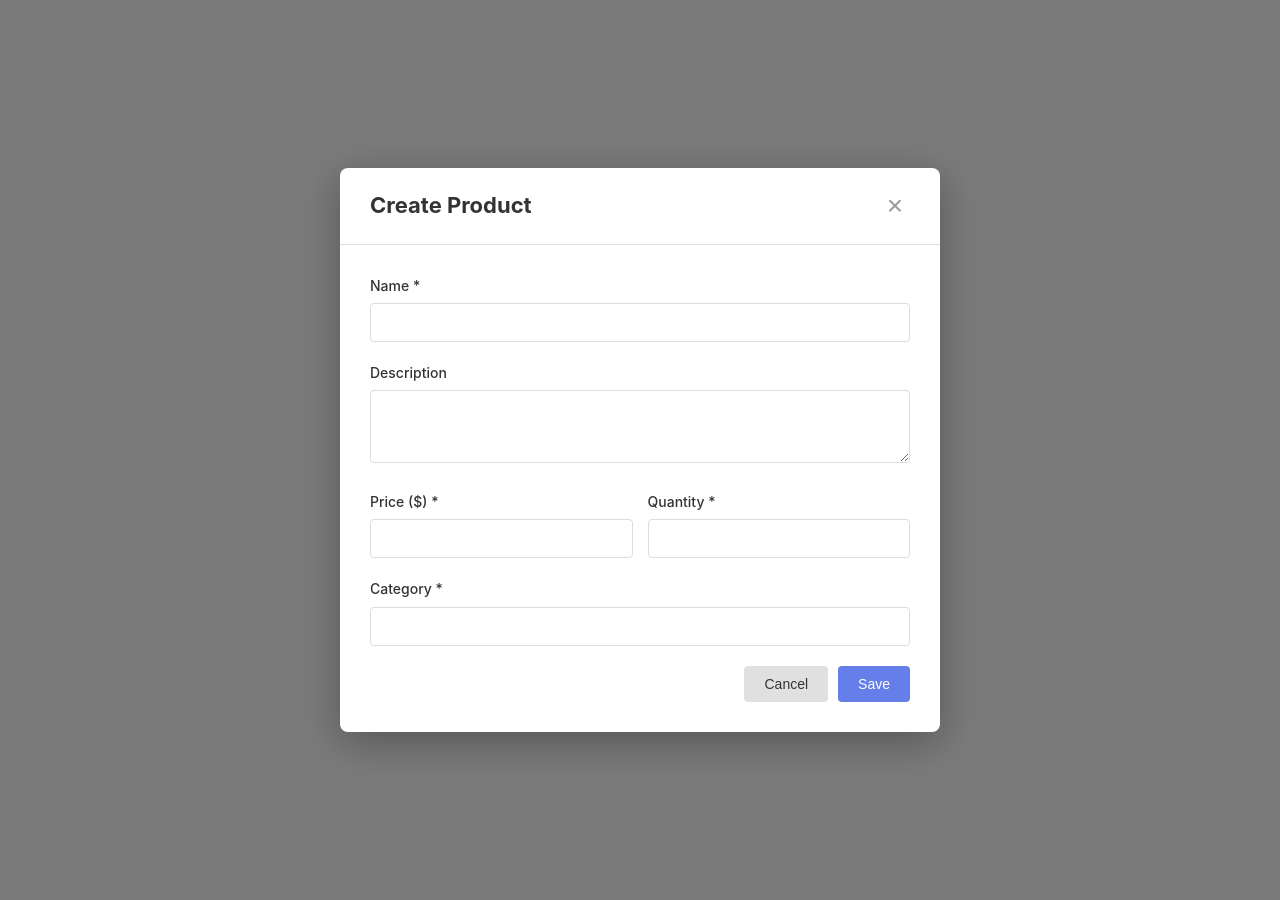
Test: ProductModal › should validate quantity is 0 or greater
The width and height of the screenshot is (1280, 900).
Type "Test Product" into the field labelled "Name *" at (640, 322), box x1=370 y1=303 x2=910 y2=342
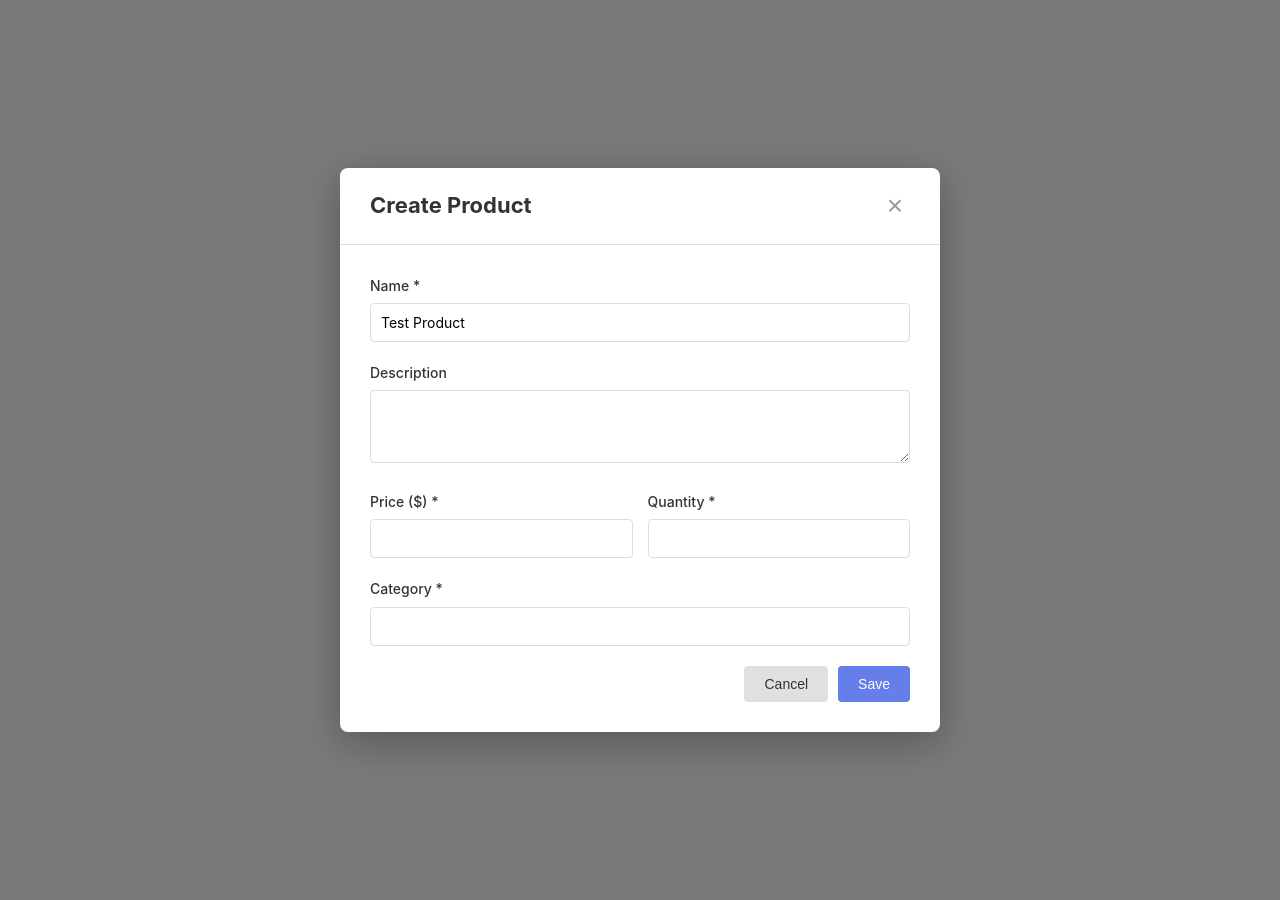
Type "10.99" into the number field labelled "Price ($) *" at (501, 539), box x1=370 y1=519 x2=632 y2=558
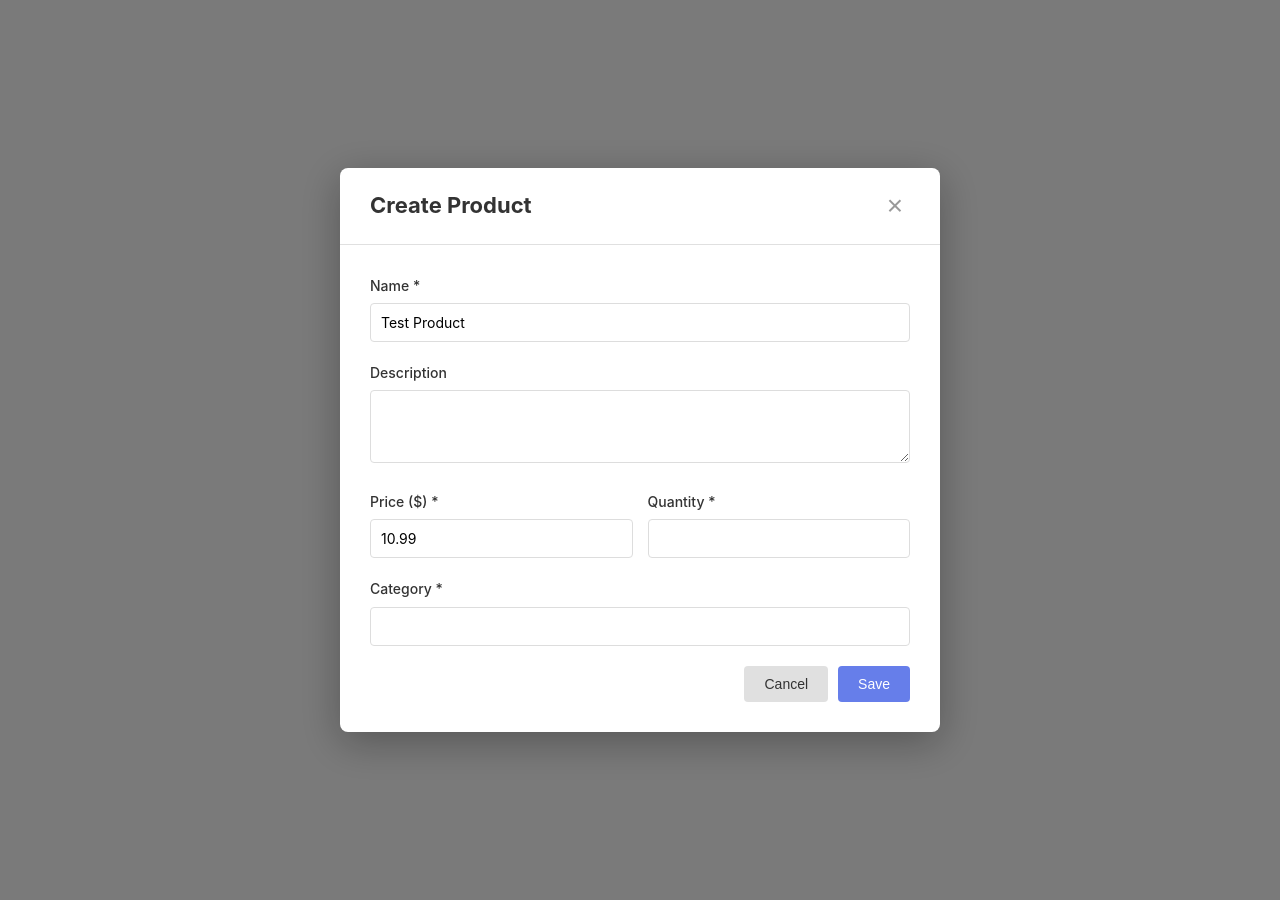
Type "Test" into the field labelled "Category *" at (640, 626), box x1=370 y1=607 x2=910 y2=646
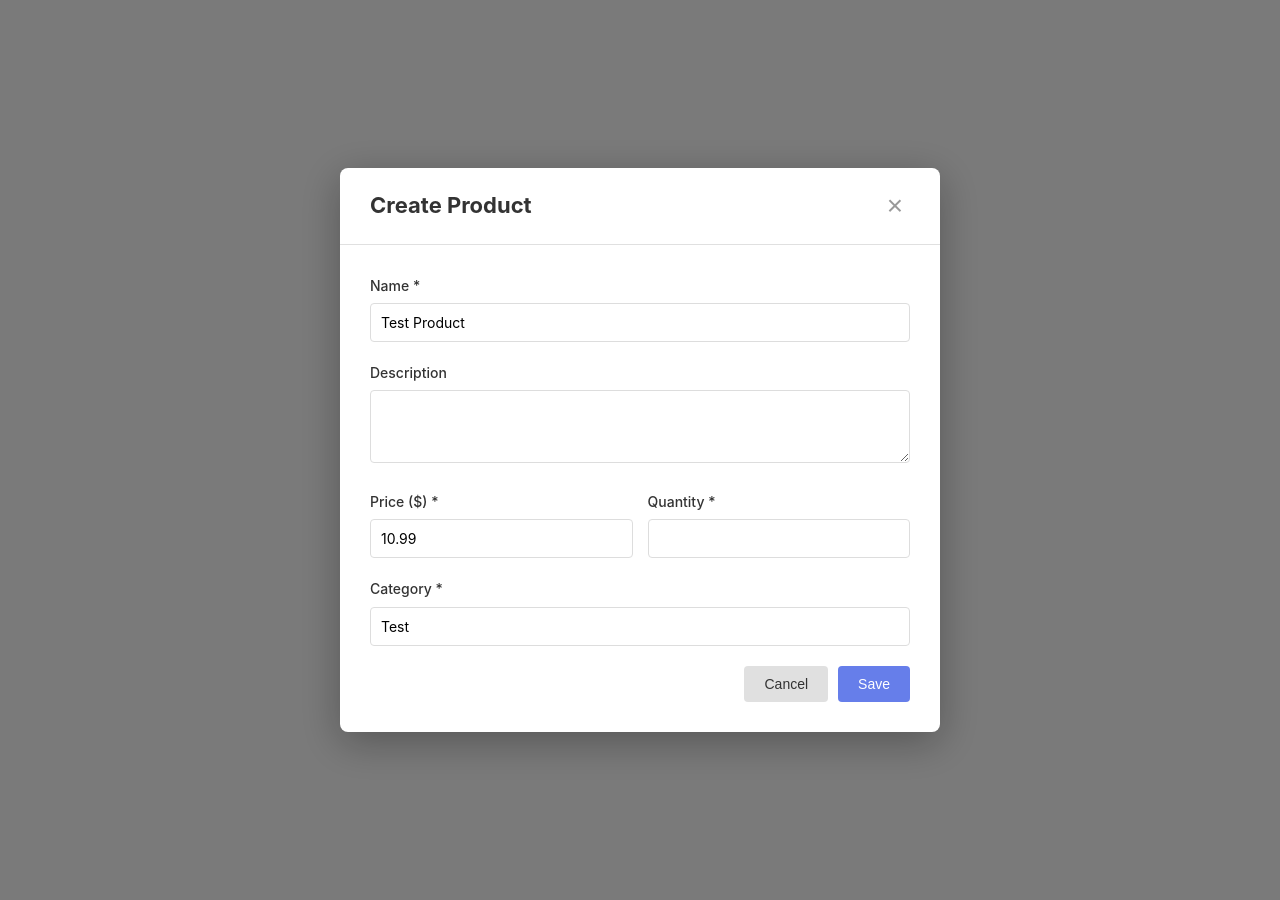
Click the button "Save" at (874, 684), box x1=838 y1=666 x2=910 y2=702
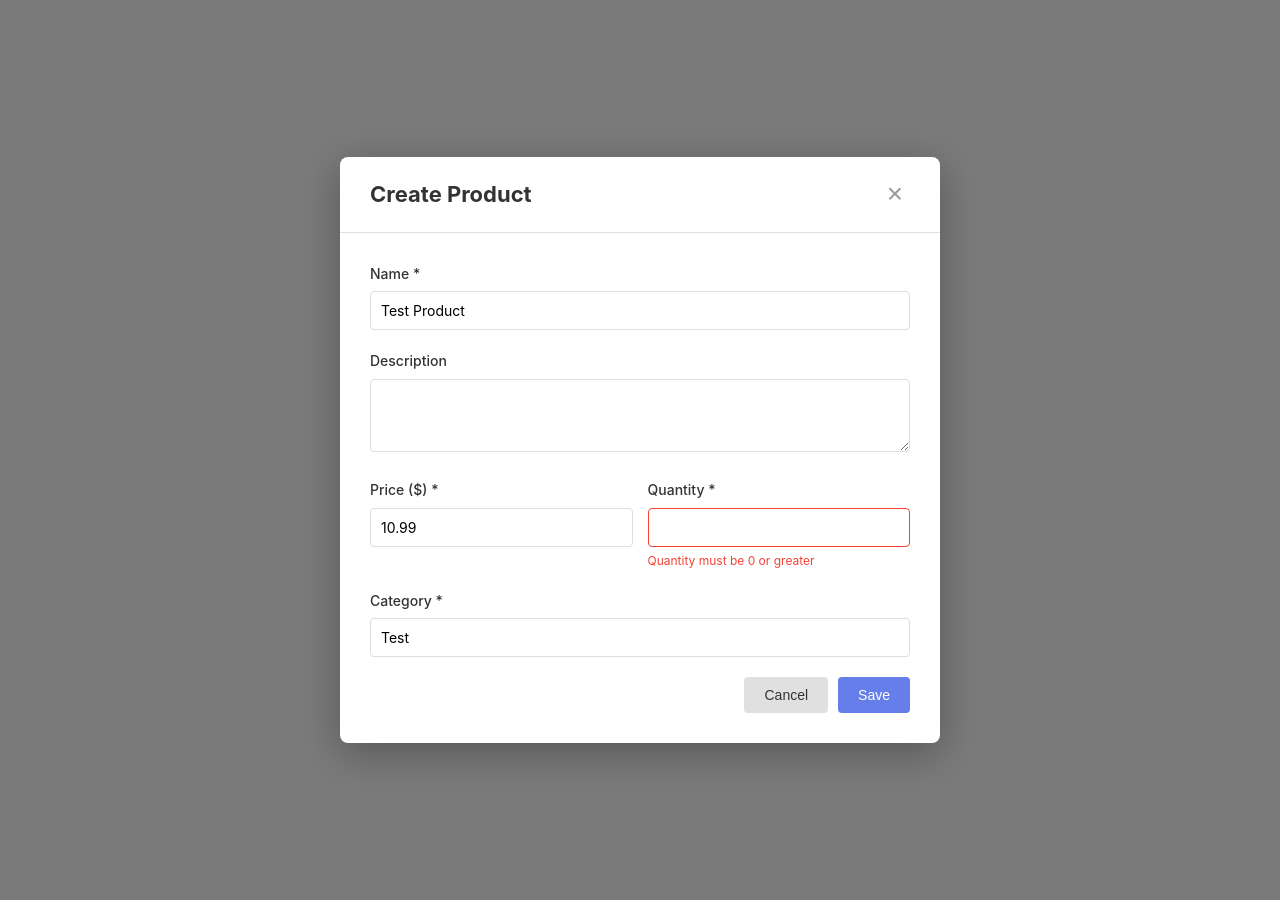
Result: the text "Quantity must be 0 or greater" is shown at x1=648 y1=553 x2=815 y2=568
